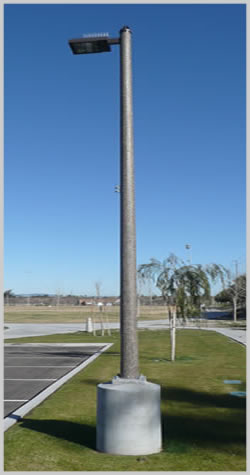light_pole: (98, 26, 160, 465)
